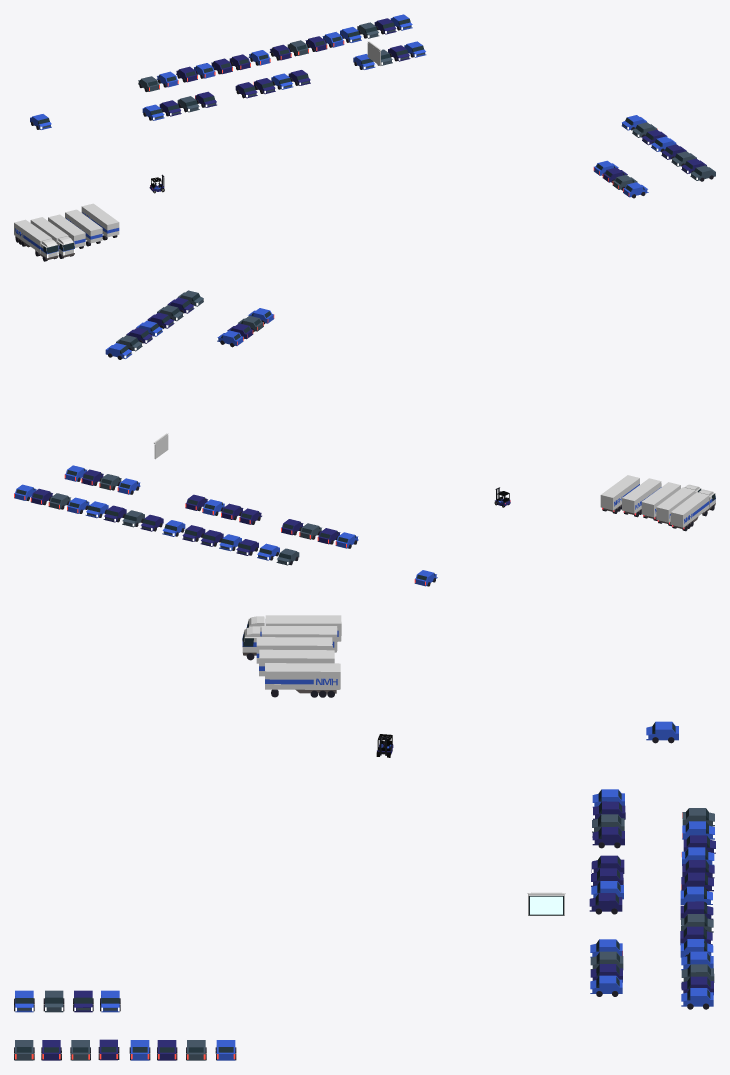
The model's file is parkplatz.glb.
3 renders of one model, top to bottom at view 1: azimuth 30°, elevation 25°; view 2: azimuth 150°, elevation 25°; view 3: azimuth 270°, elevation 25°, orthographic. The views are drawn at different scales.
Visible parts, largest first — view 1: LKW.001, Auto.001, Auto.002, Auto.010, Auto.008, Auto.013, Auto.009, Auto.007; view 2: LKW.001, Auto.001, Auto.002, Auto.013, Auto.010, Auto.007, Auto.009, Auto.008; view 3: LKW.001, Auto.001, Auto.002, Auto.009, Auto.010, Auto.013, Auto.007, Auto.008, Cube.257.
Boxes of the visible parts, box(x1,y1,x2,y2) form: LKW.001: box(14, 203, 119, 261); Auto.001: box(138, 32, 344, 91); Auto.002: box(142, 73, 293, 120); Auto.010: box(340, 14, 412, 42); Auto.008: box(661, 144, 715, 181); Auto.013: box(353, 41, 426, 69); Auto.009: box(593, 160, 648, 198); Auto.007: box(621, 115, 676, 151); LKW.001: box(600, 475, 715, 531); Auto.001: box(85, 501, 299, 565); Auto.002: box(202, 499, 358, 548); Auto.013: box(64, 465, 140, 494); Auto.010: box(14, 484, 89, 513); Auto.007: box(105, 320, 162, 359); Auto.009: box(217, 308, 274, 347); Auto.008: box(147, 290, 203, 328); LKW.001: box(242, 615, 341, 697); Auto.001: box(680, 808, 714, 957); Auto.002: box(591, 789, 625, 899); Auto.009: box(14, 990, 120, 1012); Auto.010: box(681, 951, 714, 1009); Auto.013: box(590, 939, 623, 996); Auto.007: box(129, 1040, 236, 1060); Auto.008: box(14, 1039, 119, 1060); Cube.257: box(527, 892, 565, 915).
Bounding box in the file's own units: 87.13 × 5.41 × 61.27.
